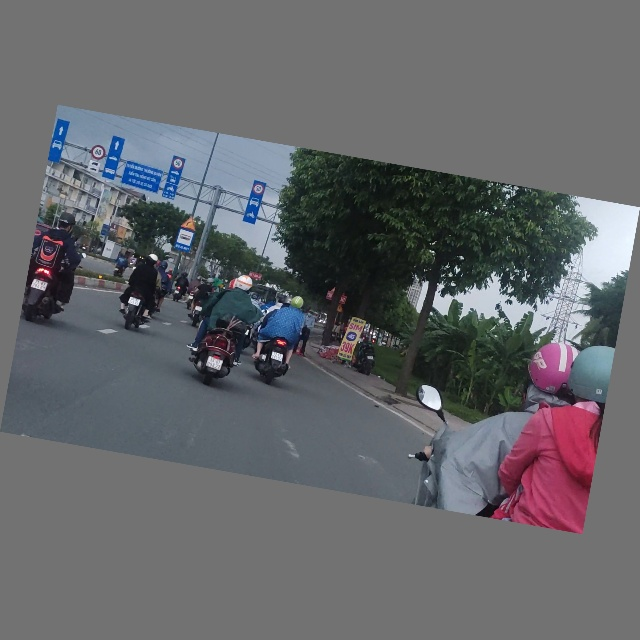I.434a: (173, 228, 195, 254)
P.127*50: (252, 183, 265, 196), (171, 157, 184, 170)
P.127*60: (90, 144, 107, 161)
S.505a*Xe tai va cong: (87, 160, 101, 174)
W.201b: (180, 215, 198, 232)
